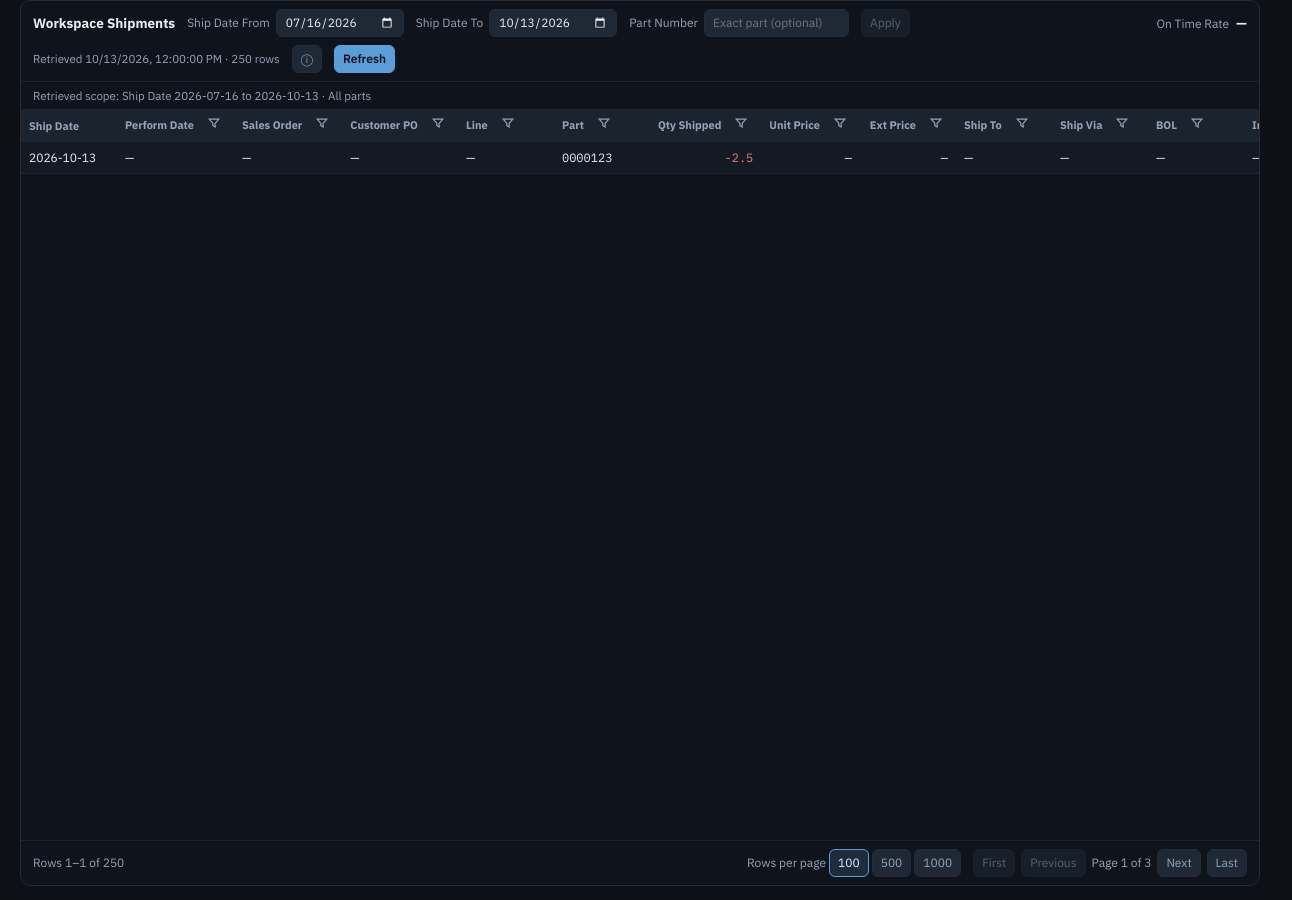
Test case: Workspace Shipments panel (mocked generated client only) › pages one bounded page at a time and keeps the page after a page failure
Expected: the table is shown, x1=21 y1=109 x2=1259 y2=174
Expected: the text "Rows 1–1 of 250" is shown, x1=33 y1=854 x2=124 y2=872
Click the button "Next". click: (1179, 863)
box: x1=1157 y1=849 x2=1201 y2=877
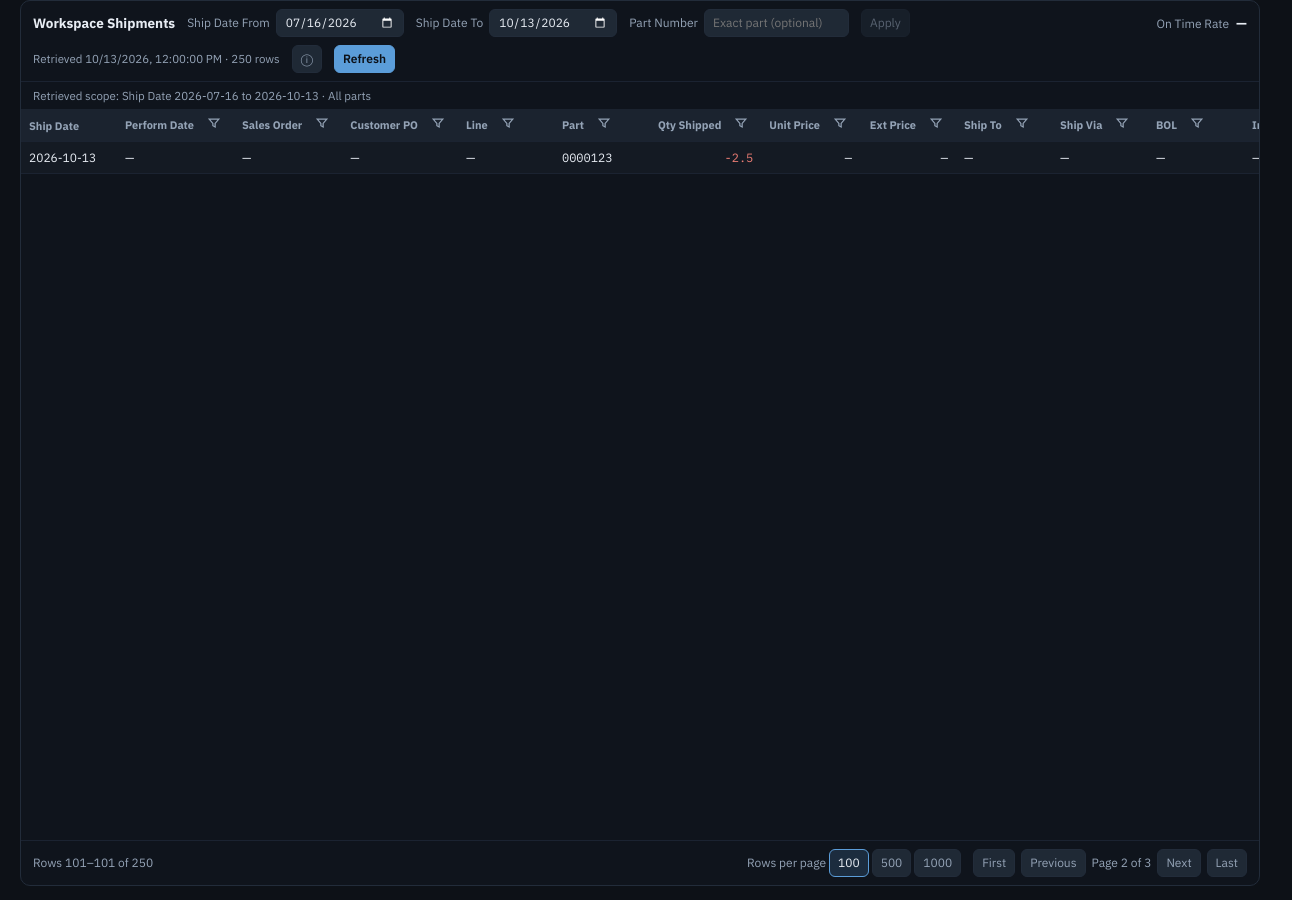
Result: the text "Page 2 of 3" is shown at x1=1092 y1=854 x2=1151 y2=872
Click the button "Last". click: (1227, 863)
box: x1=1207 y1=849 x2=1247 y2=877
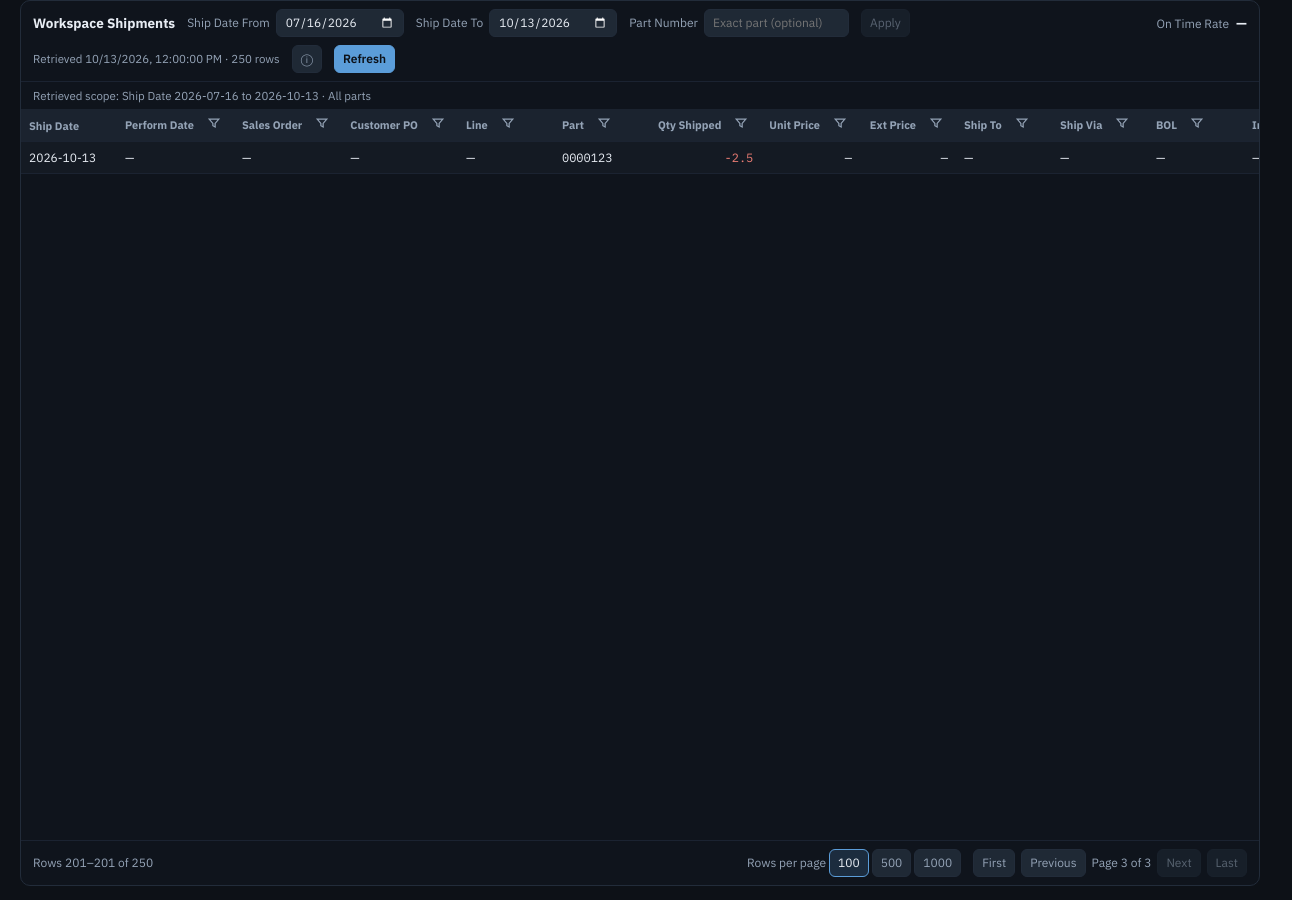
Expected: the number of rows is 2, x1=21 y1=109 x2=1259 y2=142; x1=21 y1=142 x2=1259 y2=174
Result: the text "Page 3 of 3" is shown at x1=1092 y1=854 x2=1151 y2=872
Click the button "Previous". click: (1053, 863)
box: x1=1021 y1=849 x2=1086 y2=877
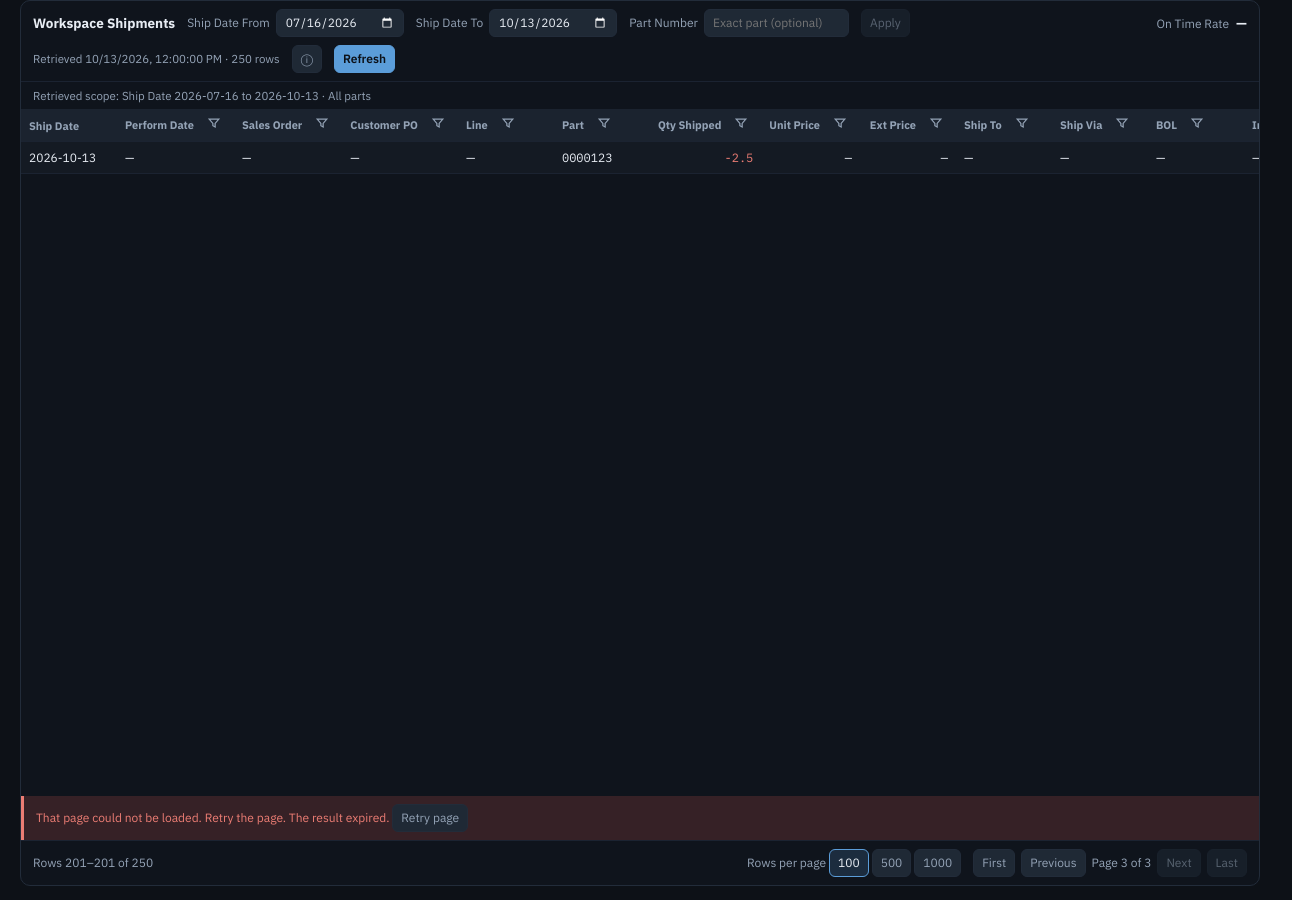
Result: the text "Page 3 of 3" is shown at x1=1092 y1=854 x2=1151 y2=872
Result: the message "That page could not be loaded. Retry the page. The result expired. Retry page" is shown at x1=21 y1=796 x2=1259 y2=840
